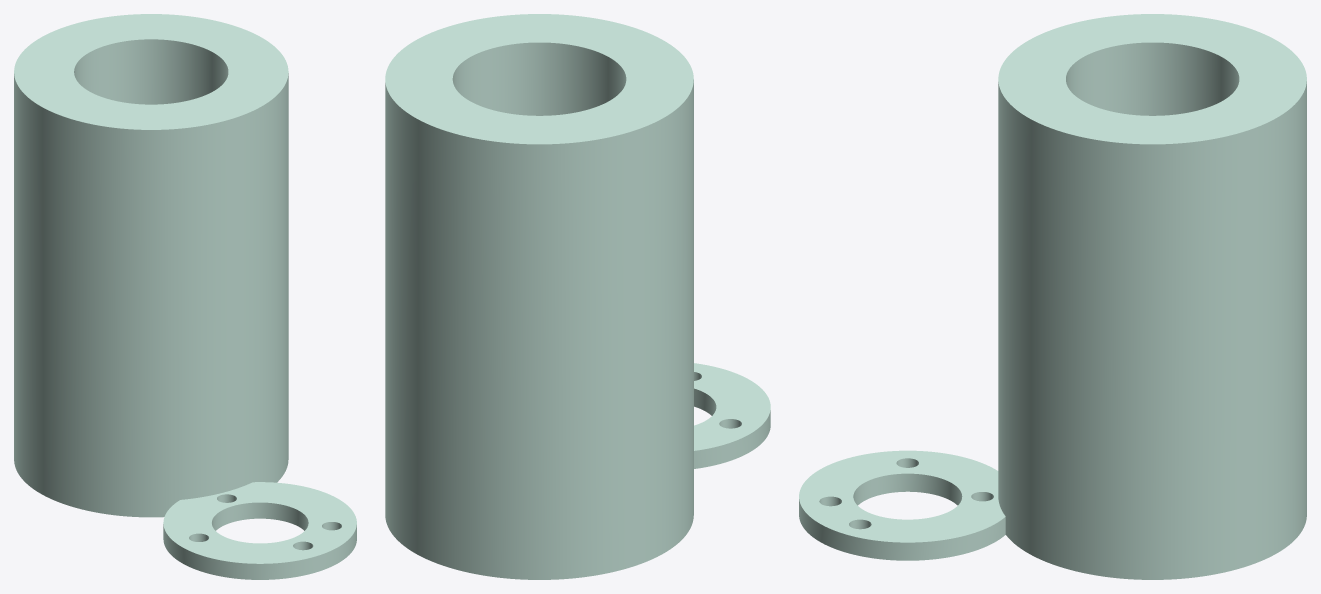
3 renders of one model, left to right at view 1: azimuth 30°, elevation 25°; view 2: azimuth 150°, elevation 25°; view 3: azimuth 270°, elevation 25°, orthographic. The views are drawn at different scales.
Visible parts, largest first — view 1: Renderer Node; view 2: Renderer Node; view 3: Renderer Node.
Part boxes in pixels (<box>): Renderer Node: <box>14,14,356,579</box>; Renderer Node: <box>385,14,770,579</box>; Renderer Node: <box>799,14,1306,579</box>.
Bounding box in the file's own units: 0.4815 × 0.75 × 0.7926.
